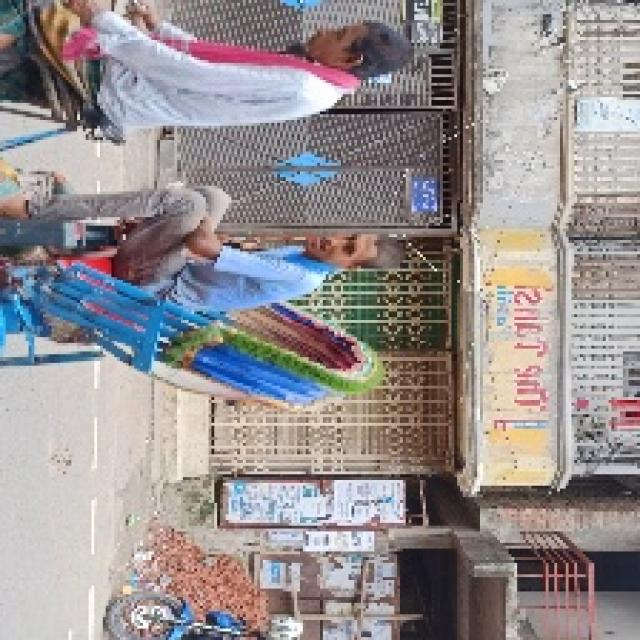rickshaw: (24, 14, 431, 420)
